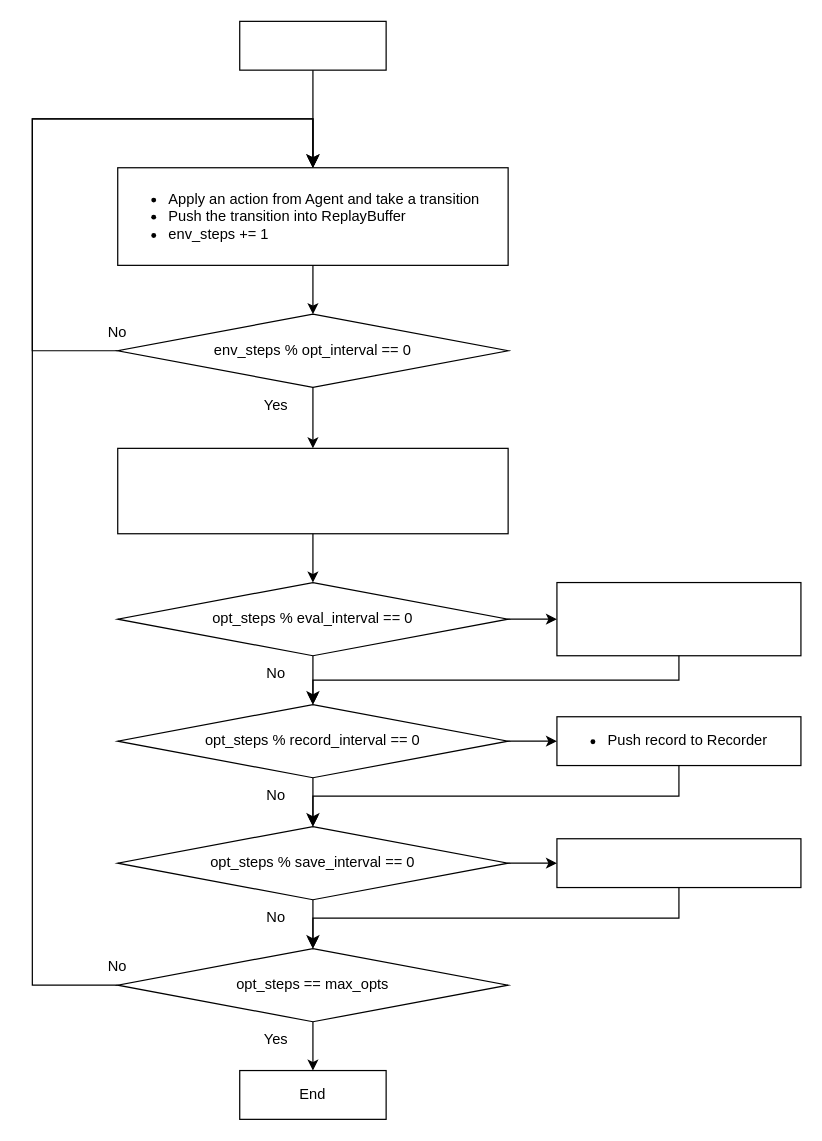
Image size: 822x1141. Some labels were removed from this diagram. Here are the shapes that lost their labels. From the top down, the centre of each, then its label:
At pixel 312 45: "Start".
At pixel 312 490: "Do an optimization step opt_steps += 1".
At pixel 678 618: "Do evaluation Save the best model".
At pixel 678 863: "Save model parameters".
